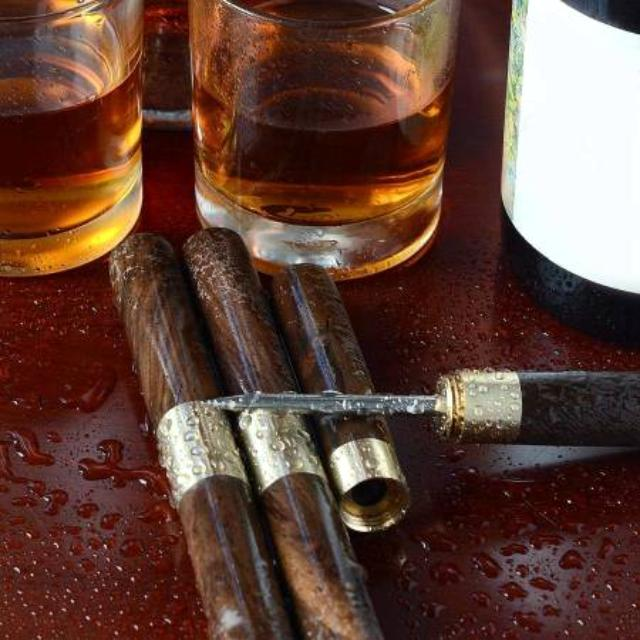ice pick: (206, 369, 640, 451)
